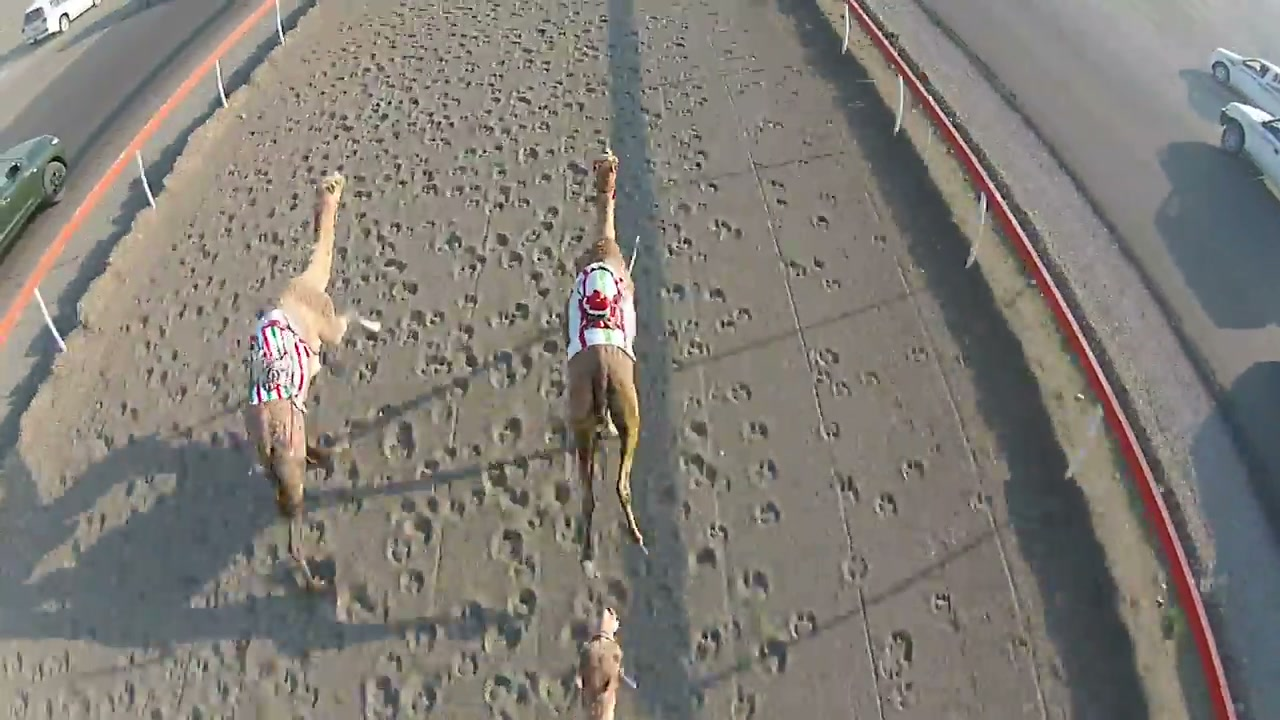animal_footprint: (24, 0, 951, 719), (876, 629, 915, 709), (678, 451, 729, 487), (382, 419, 418, 462), (757, 637, 789, 673), (318, 173, 346, 212), (731, 683, 759, 719), (709, 381, 752, 404), (833, 471, 861, 506), (717, 307, 753, 334), (841, 552, 870, 583), (738, 569, 769, 598), (750, 458, 779, 486), (691, 544, 720, 572), (874, 491, 898, 517), (755, 500, 781, 524), (900, 458, 925, 481), (742, 419, 768, 441), (686, 418, 709, 441)
